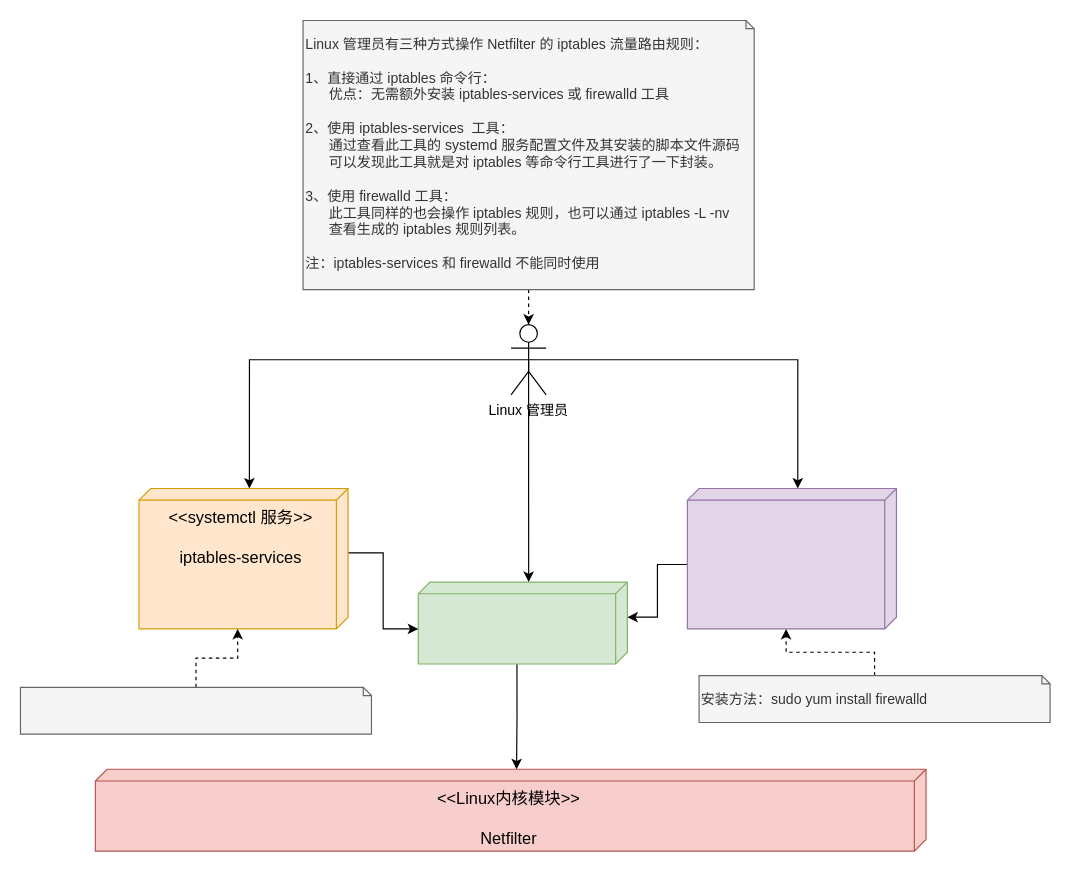
Image size: 1071x872. Some labels were removed from this diagram. The centre of each missing label's shape, as x and y in pixels:
"<<Linux自带命令行>> iptables" goes at [522,622].
"<<systemctl 服务>> firewalld firewall-cmd" goes at [791,558].
"安装方法：sudo yum install iptables-services" goes at [195,710].
